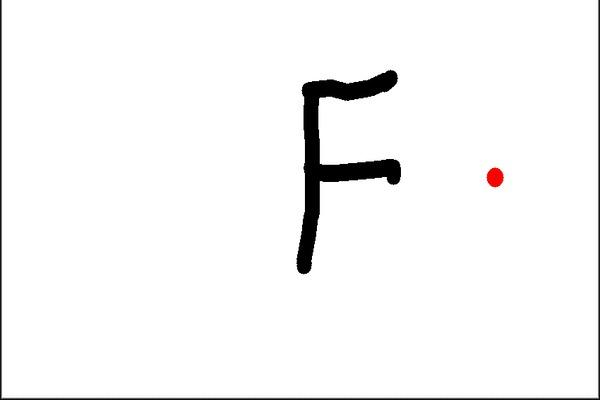F: (289, 67, 402, 277)
